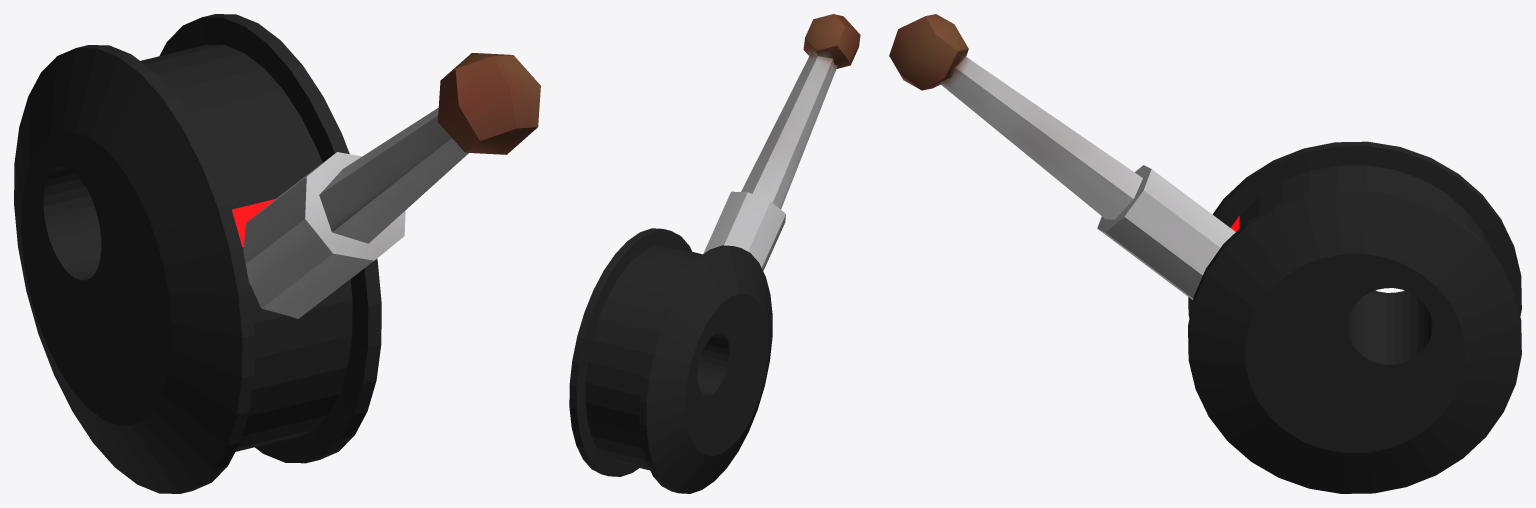
The model's file is StandaloneSwitch.fbx.
3 views of the same model, side by side, from view 1: azimuth 30°, elevation 25°; view 2: azimuth 150°, elevation 25°; view 3: azimuth 270°, elevation 25° (orthographic). The views are drawn at different scales.
Parts seen in each view (by area): view 1: Base, Lever; view 2: Base, Lever; view 3: Base, Lever.
Part boxes in pixels (left/top/right/bottom): Base: left=14, top=14, right=381, bottom=493; Lever: left=243, top=53, right=540, bottom=318; Base: left=569, top=228, right=772, bottom=493; Lever: left=703, top=14, right=860, bottom=270; Base: left=1188, top=141, right=1521, bottom=493; Lever: left=889, top=14, right=1235, bottom=299.
Bounding box in the file's own units: 0.0647 × 0.19 × 0.2404.
